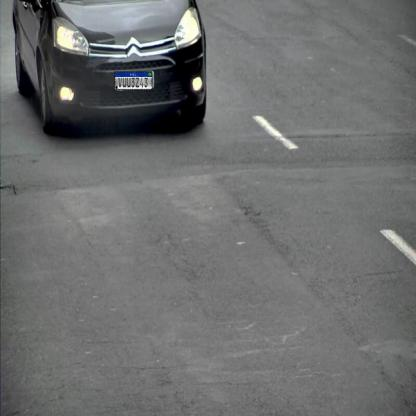PlacaM: (115, 72, 152, 90)
